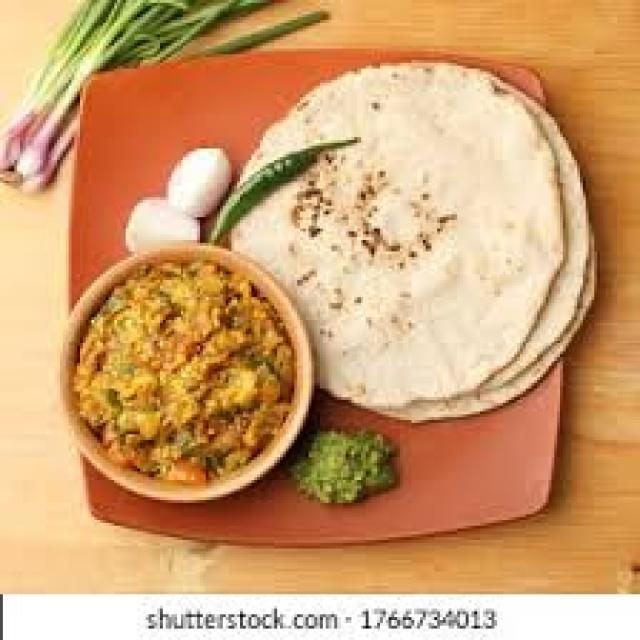ROTI: (226, 60, 560, 406)
